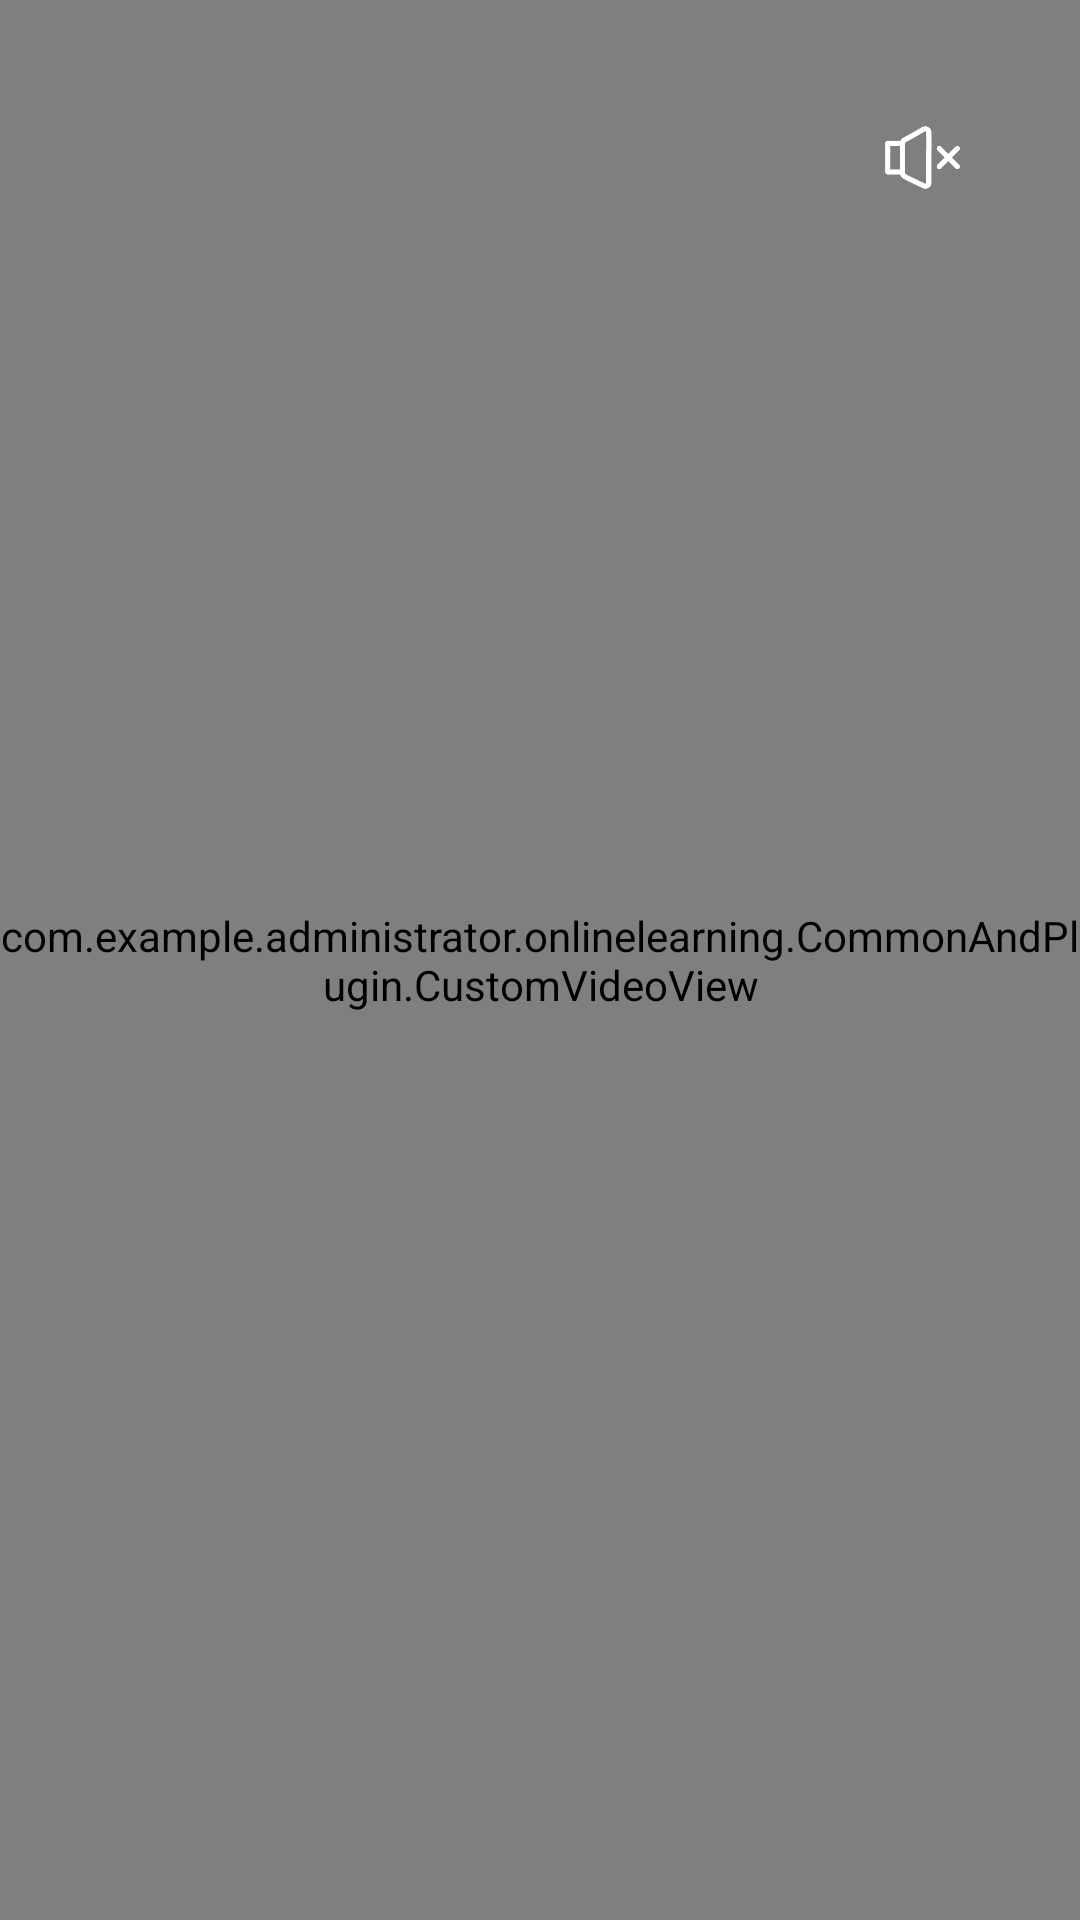

Screen size 1080 x 1920. Icon name, then its center in pixels as (x,y):
jingyin: (922,157)
